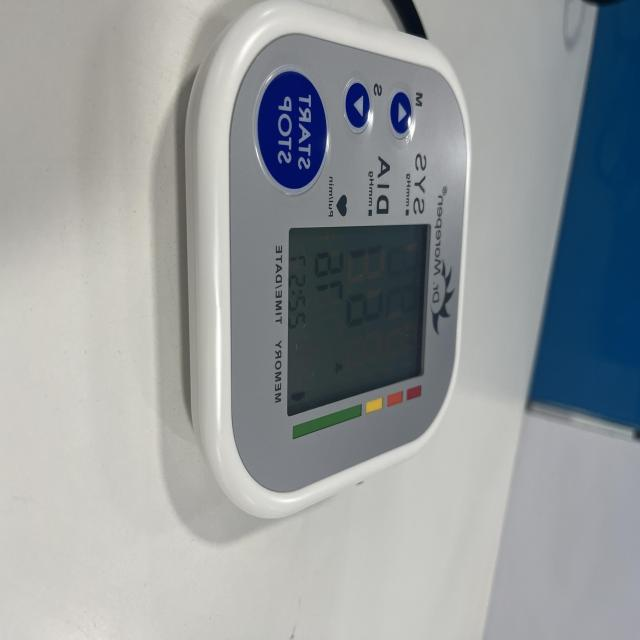bp: (182, 0, 473, 524)
